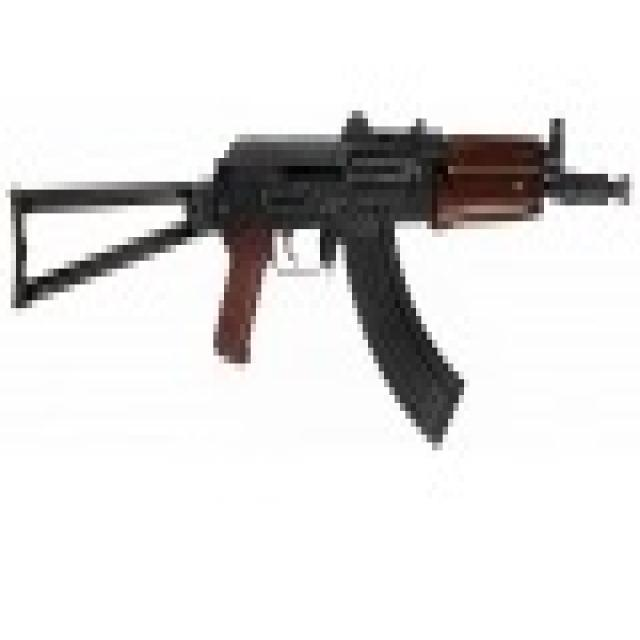Gun: (32, 110, 624, 426)
